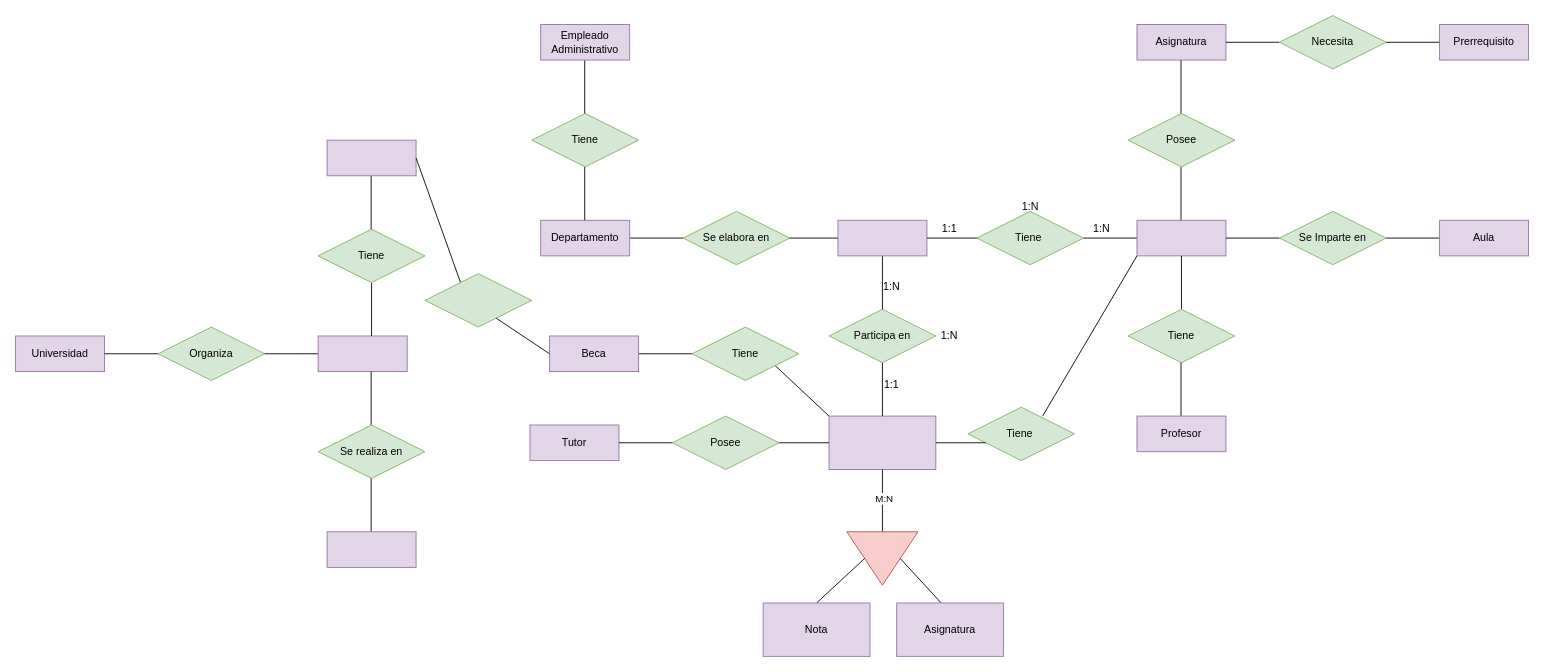
Image size: 1544x672. Some labels were removed from this diagram. Here are the shapes that lost their labels. From the top down, the box of each, then its label:
(326, 139, 416, 176): Empresa Asociada (Patrocinador)
(837, 219, 927, 256): Programa Académico
(1136, 219, 1226, 256): Curso
(424, 273, 532, 327): Proporciona
(317, 335, 407, 372): Evento deportivo
(828, 415, 936, 469): Estudiante
(326, 531, 416, 567): Instalación deportiva
